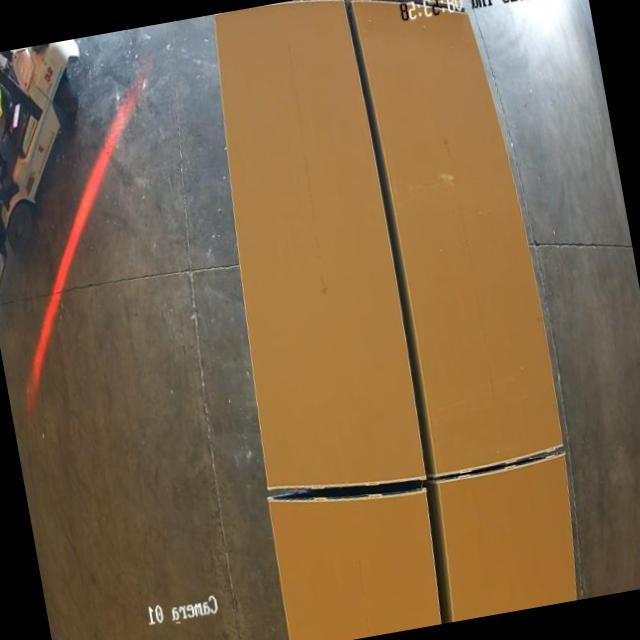driver: (0, 76, 17, 163)
forklift: (0, 36, 123, 262)
